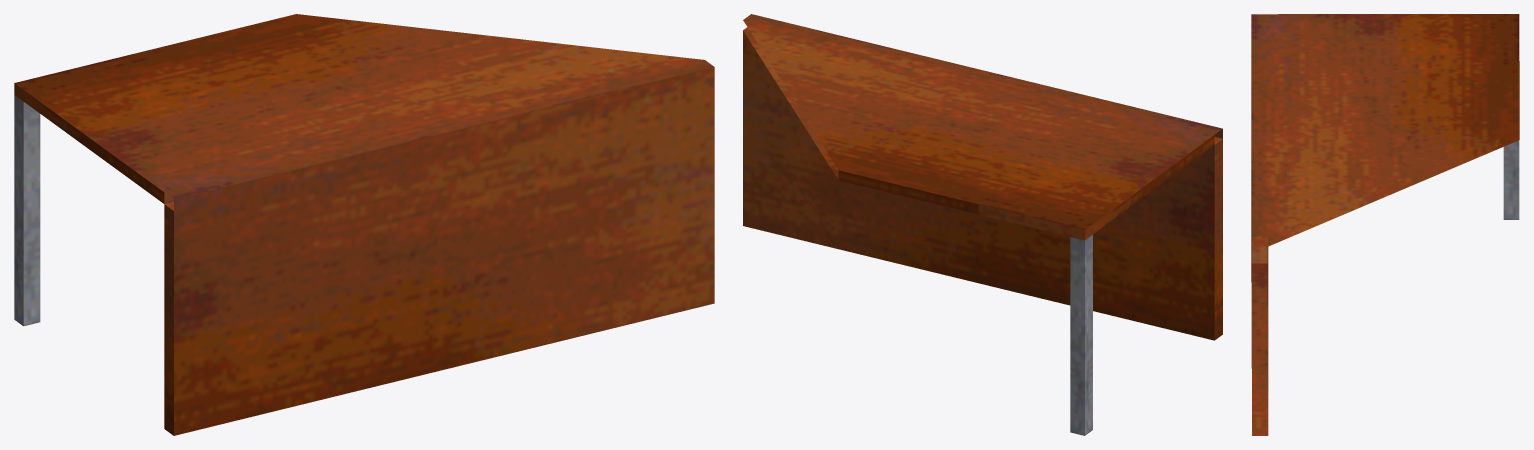
The model's file is desk_corner.fbx.
3 views of the same model, side by side, from view 1: azimuth 30°, elevation 25°; view 2: azimuth 150°, elevation 25°; view 3: azimuth 270°, elevation 25° (orthographic). The views are drawn at different scales.
Visible parts, largest first — view 1: polySurface9; view 2: polySurface9; view 3: polySurface9.
Boxes of the visible parts, x1,y1,x2,y2 form: polySurface9: (14, 14, 714, 435); polySurface9: (743, 14, 1222, 435); polySurface9: (1251, 14, 1519, 435).
Bounding box in the file's own units: 214 × 89.11 × 109.
